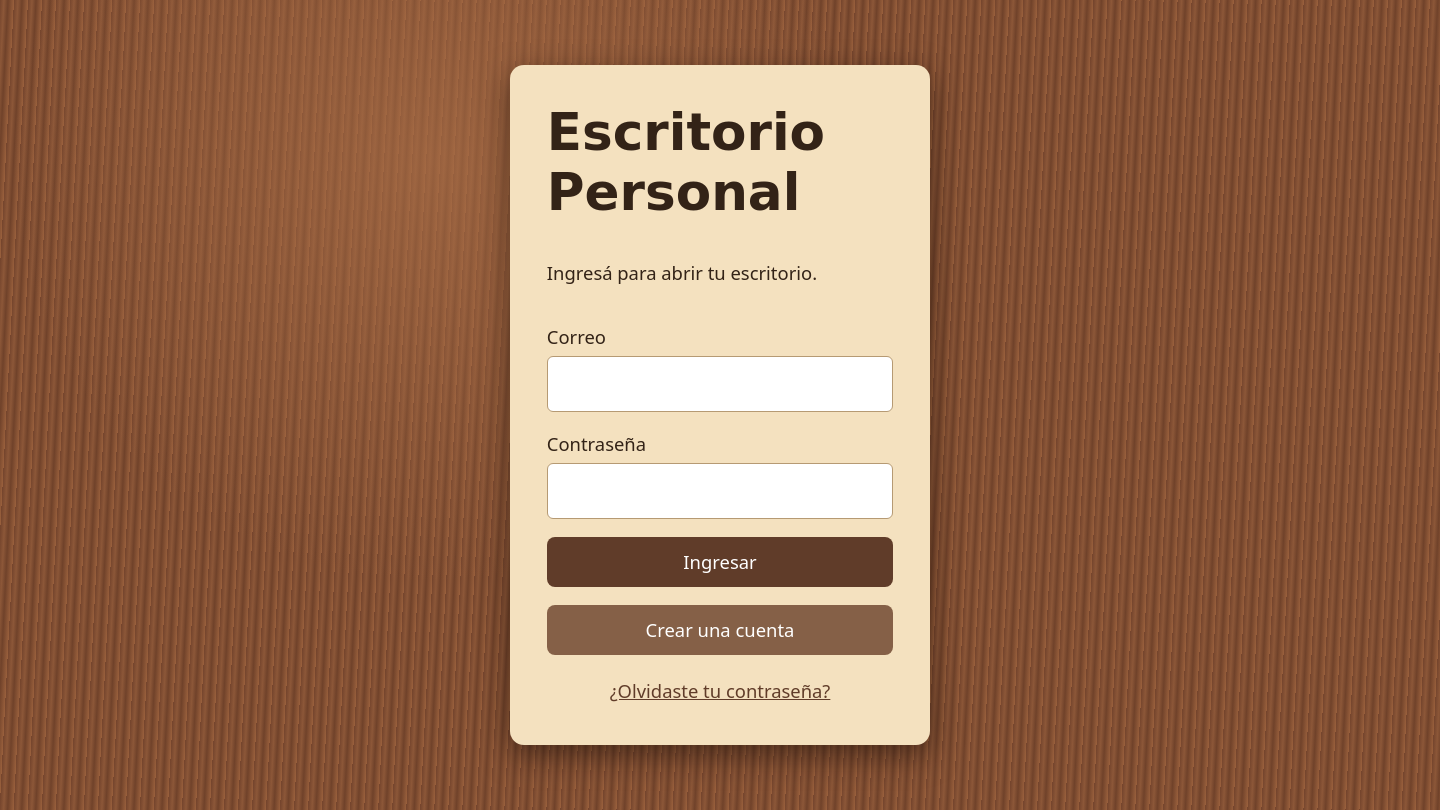
Test: AuthScreen › envía credenciales al login y permite cambiar a registro
Type "persona@example.com" into the field labelled "Correo" at (720, 384), box [547,356,893,412]
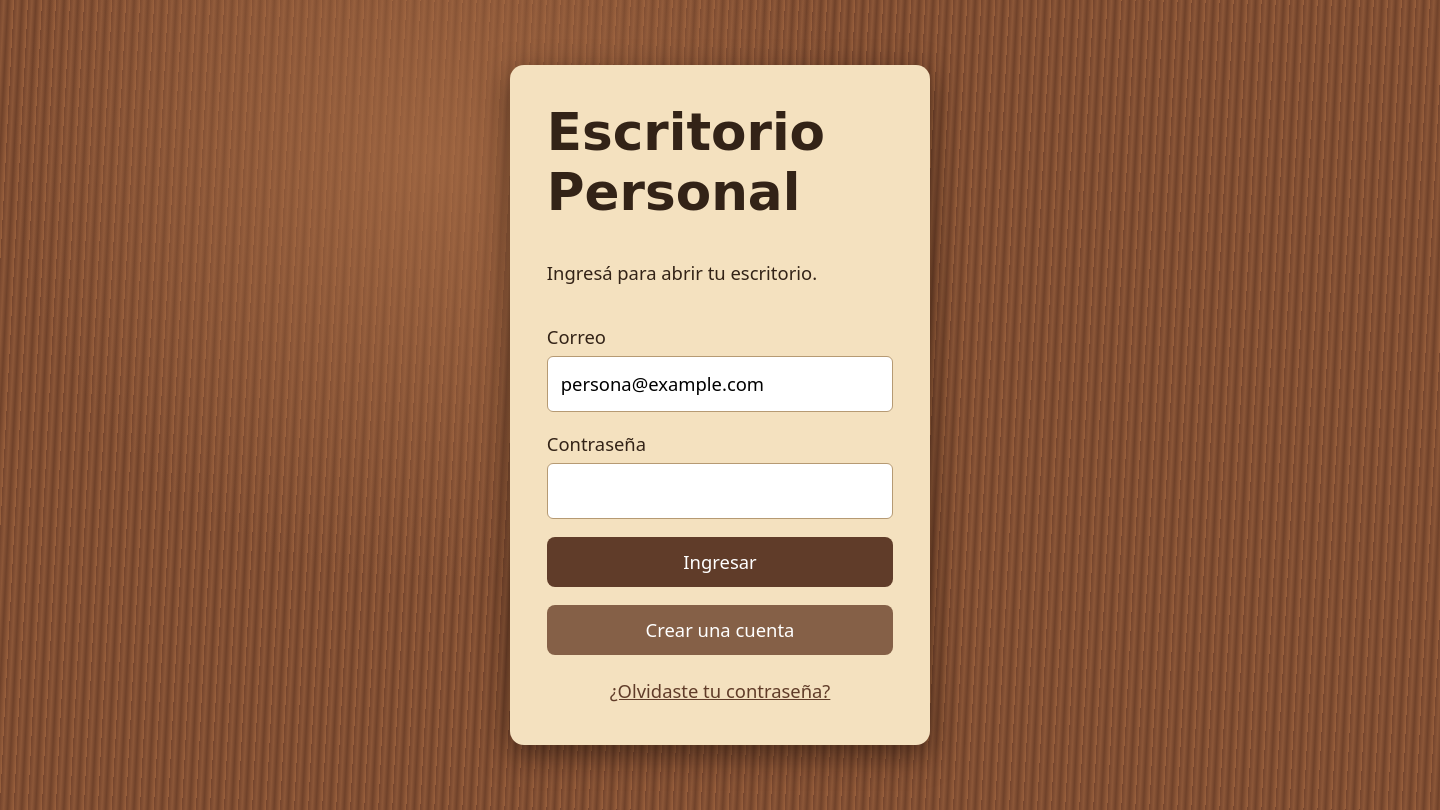
Type "secreto1" into the password field labelled "Contraseña" at (720, 491), box [547,463,893,519]
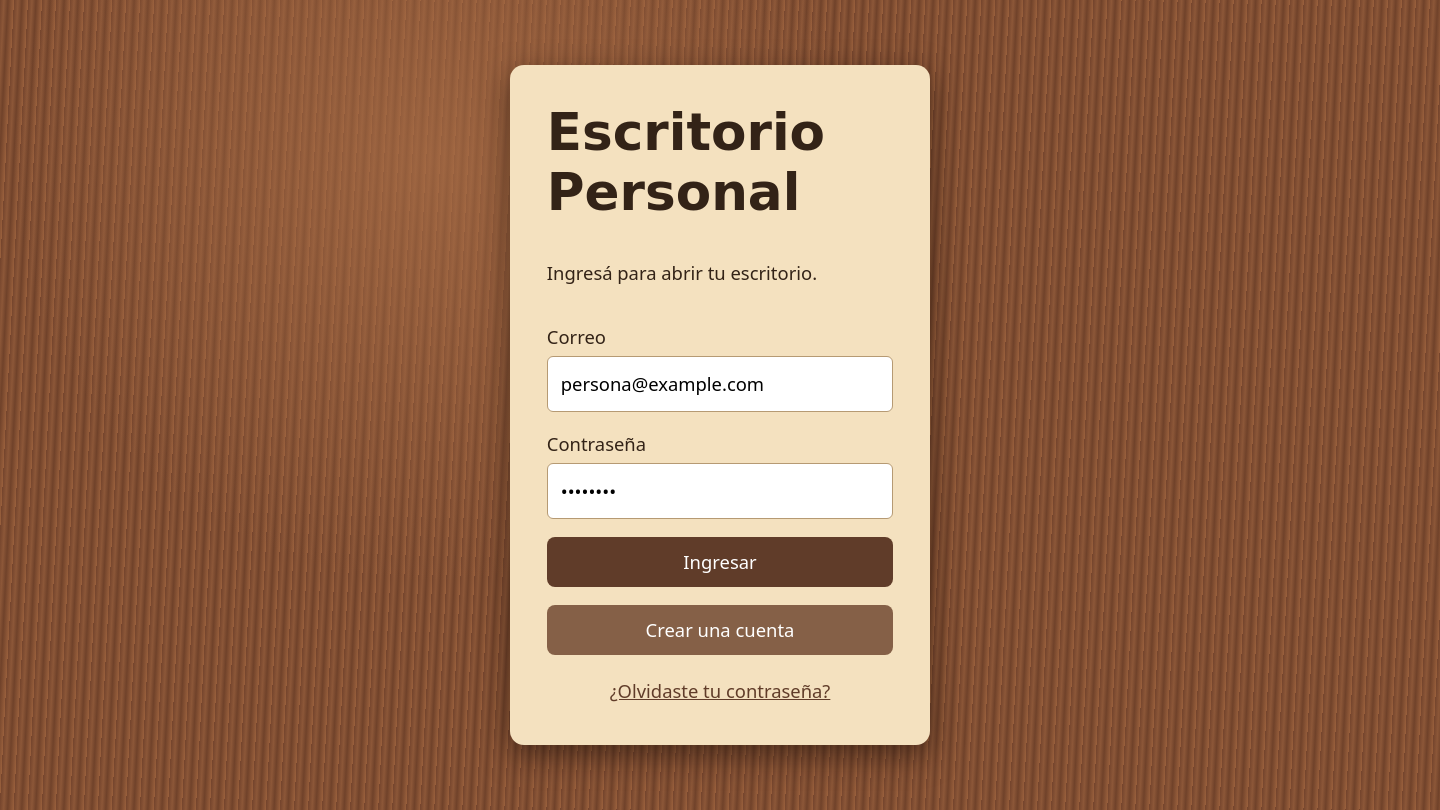
Click the button "Ingresar" at (720, 562), box [547,537,893,587]
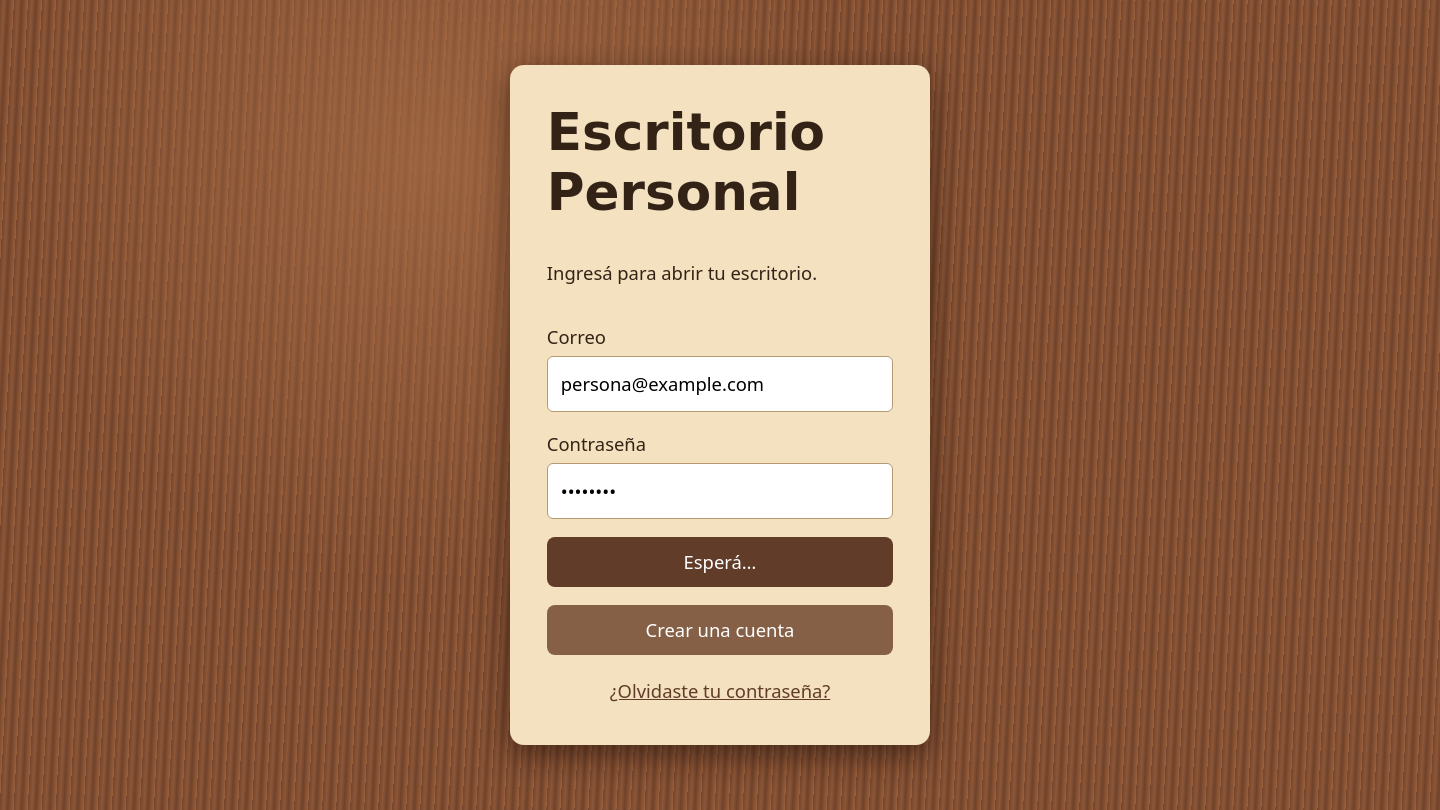
Click the button "Crear una cuenta" at (720, 630), box [547,605,893,655]
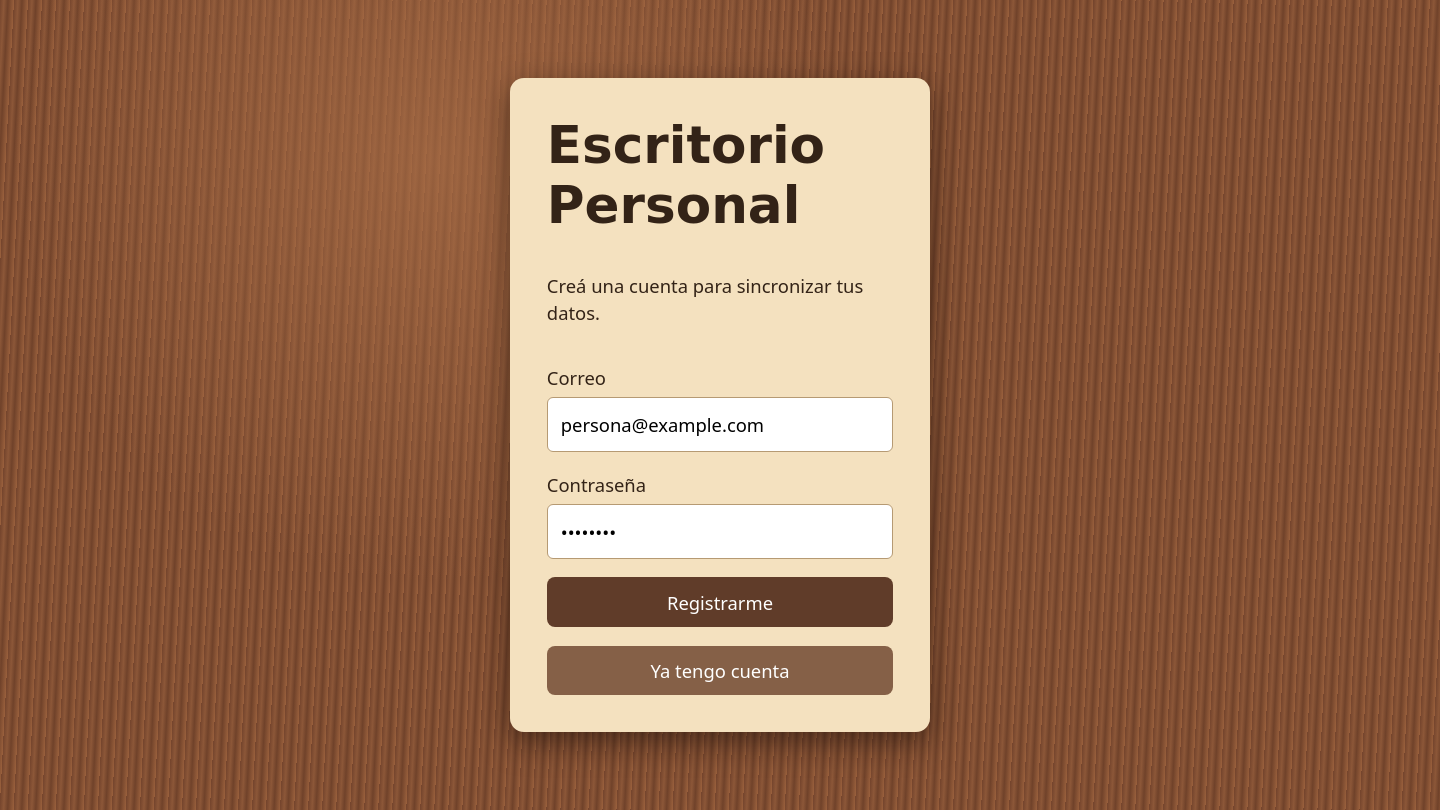
Result: the button "Registrarme" is shown at [547,578,893,627]
